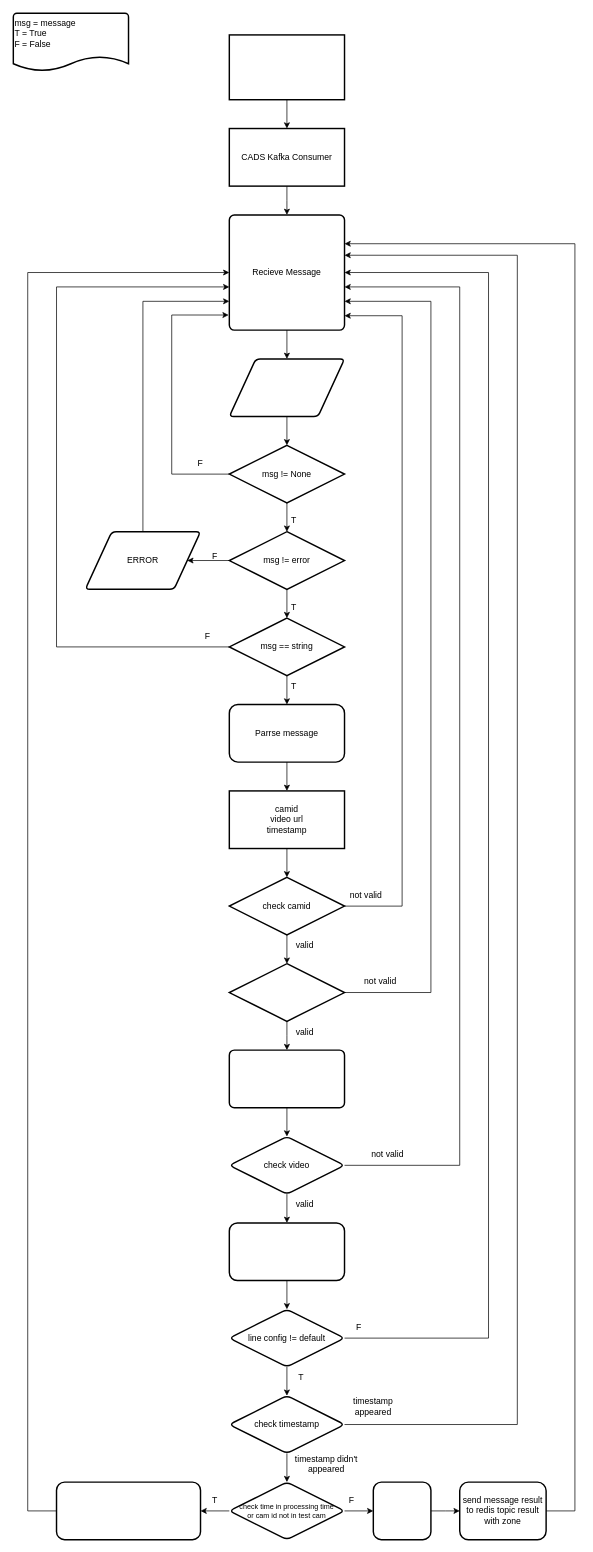
Image size: 593x1552. Some labels were removed from this diagram. The shapes that lost their labels are listed below. From the top down, each one's centre as x and y in pixels, then its label:
the point at 286,67: FSS Kafka Producer
the point at 286,387: Message
the point at 286,992: check line config
the point at 286,1078: Get cam zone, video information
the point at 286,1251: Transform line config from norm coordinates to model size coordinates
the point at 128,1510: send message process to redis topic process with zone
the point at 401,1510: in_count = 0 out_count = 0
